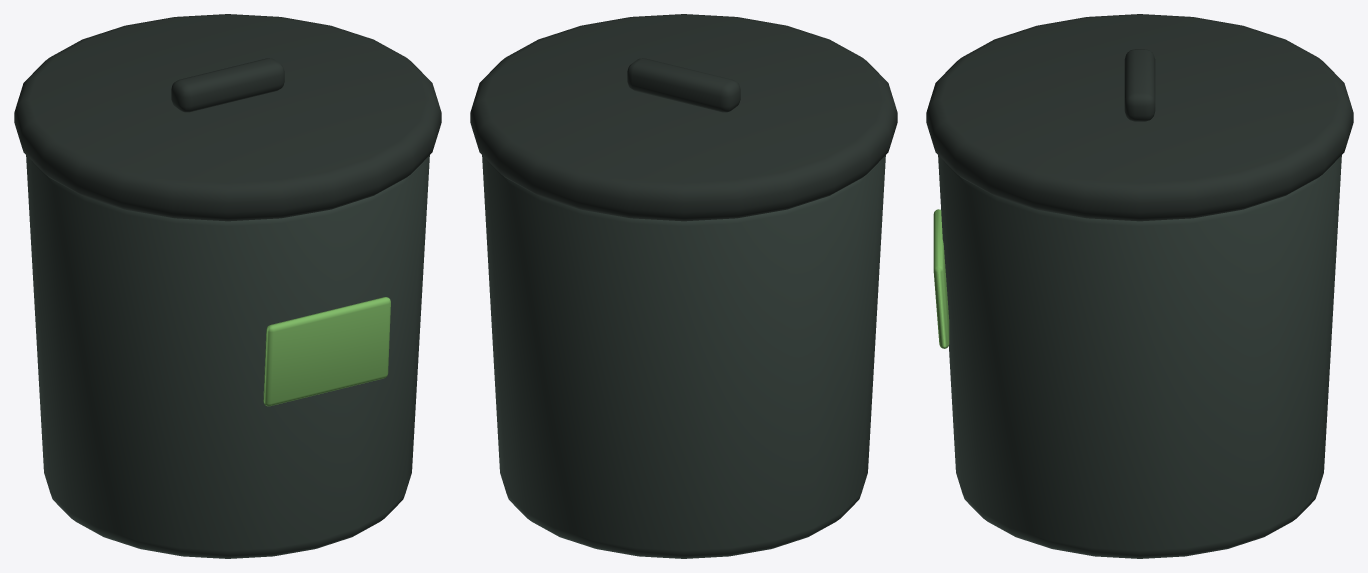
Rendered from st_trash.glb.
3 views of the same model, side by side, from view 1: azimuth 30°, elevation 25°; view 2: azimuth 150°, elevation 25°; view 3: azimuth 270°, elevation 25° (orthographic).
Parts seen in each view (by area): view 1: trash; view 2: trash; view 3: trash.
Part boxes in pixels (bbox=[...]): trash: bbox=[14, 14, 441, 558]; trash: bbox=[470, 14, 897, 558]; trash: bbox=[926, 14, 1353, 558].
Bounding box in the file's own units: 0.84 × 0.9 × 0.84.
